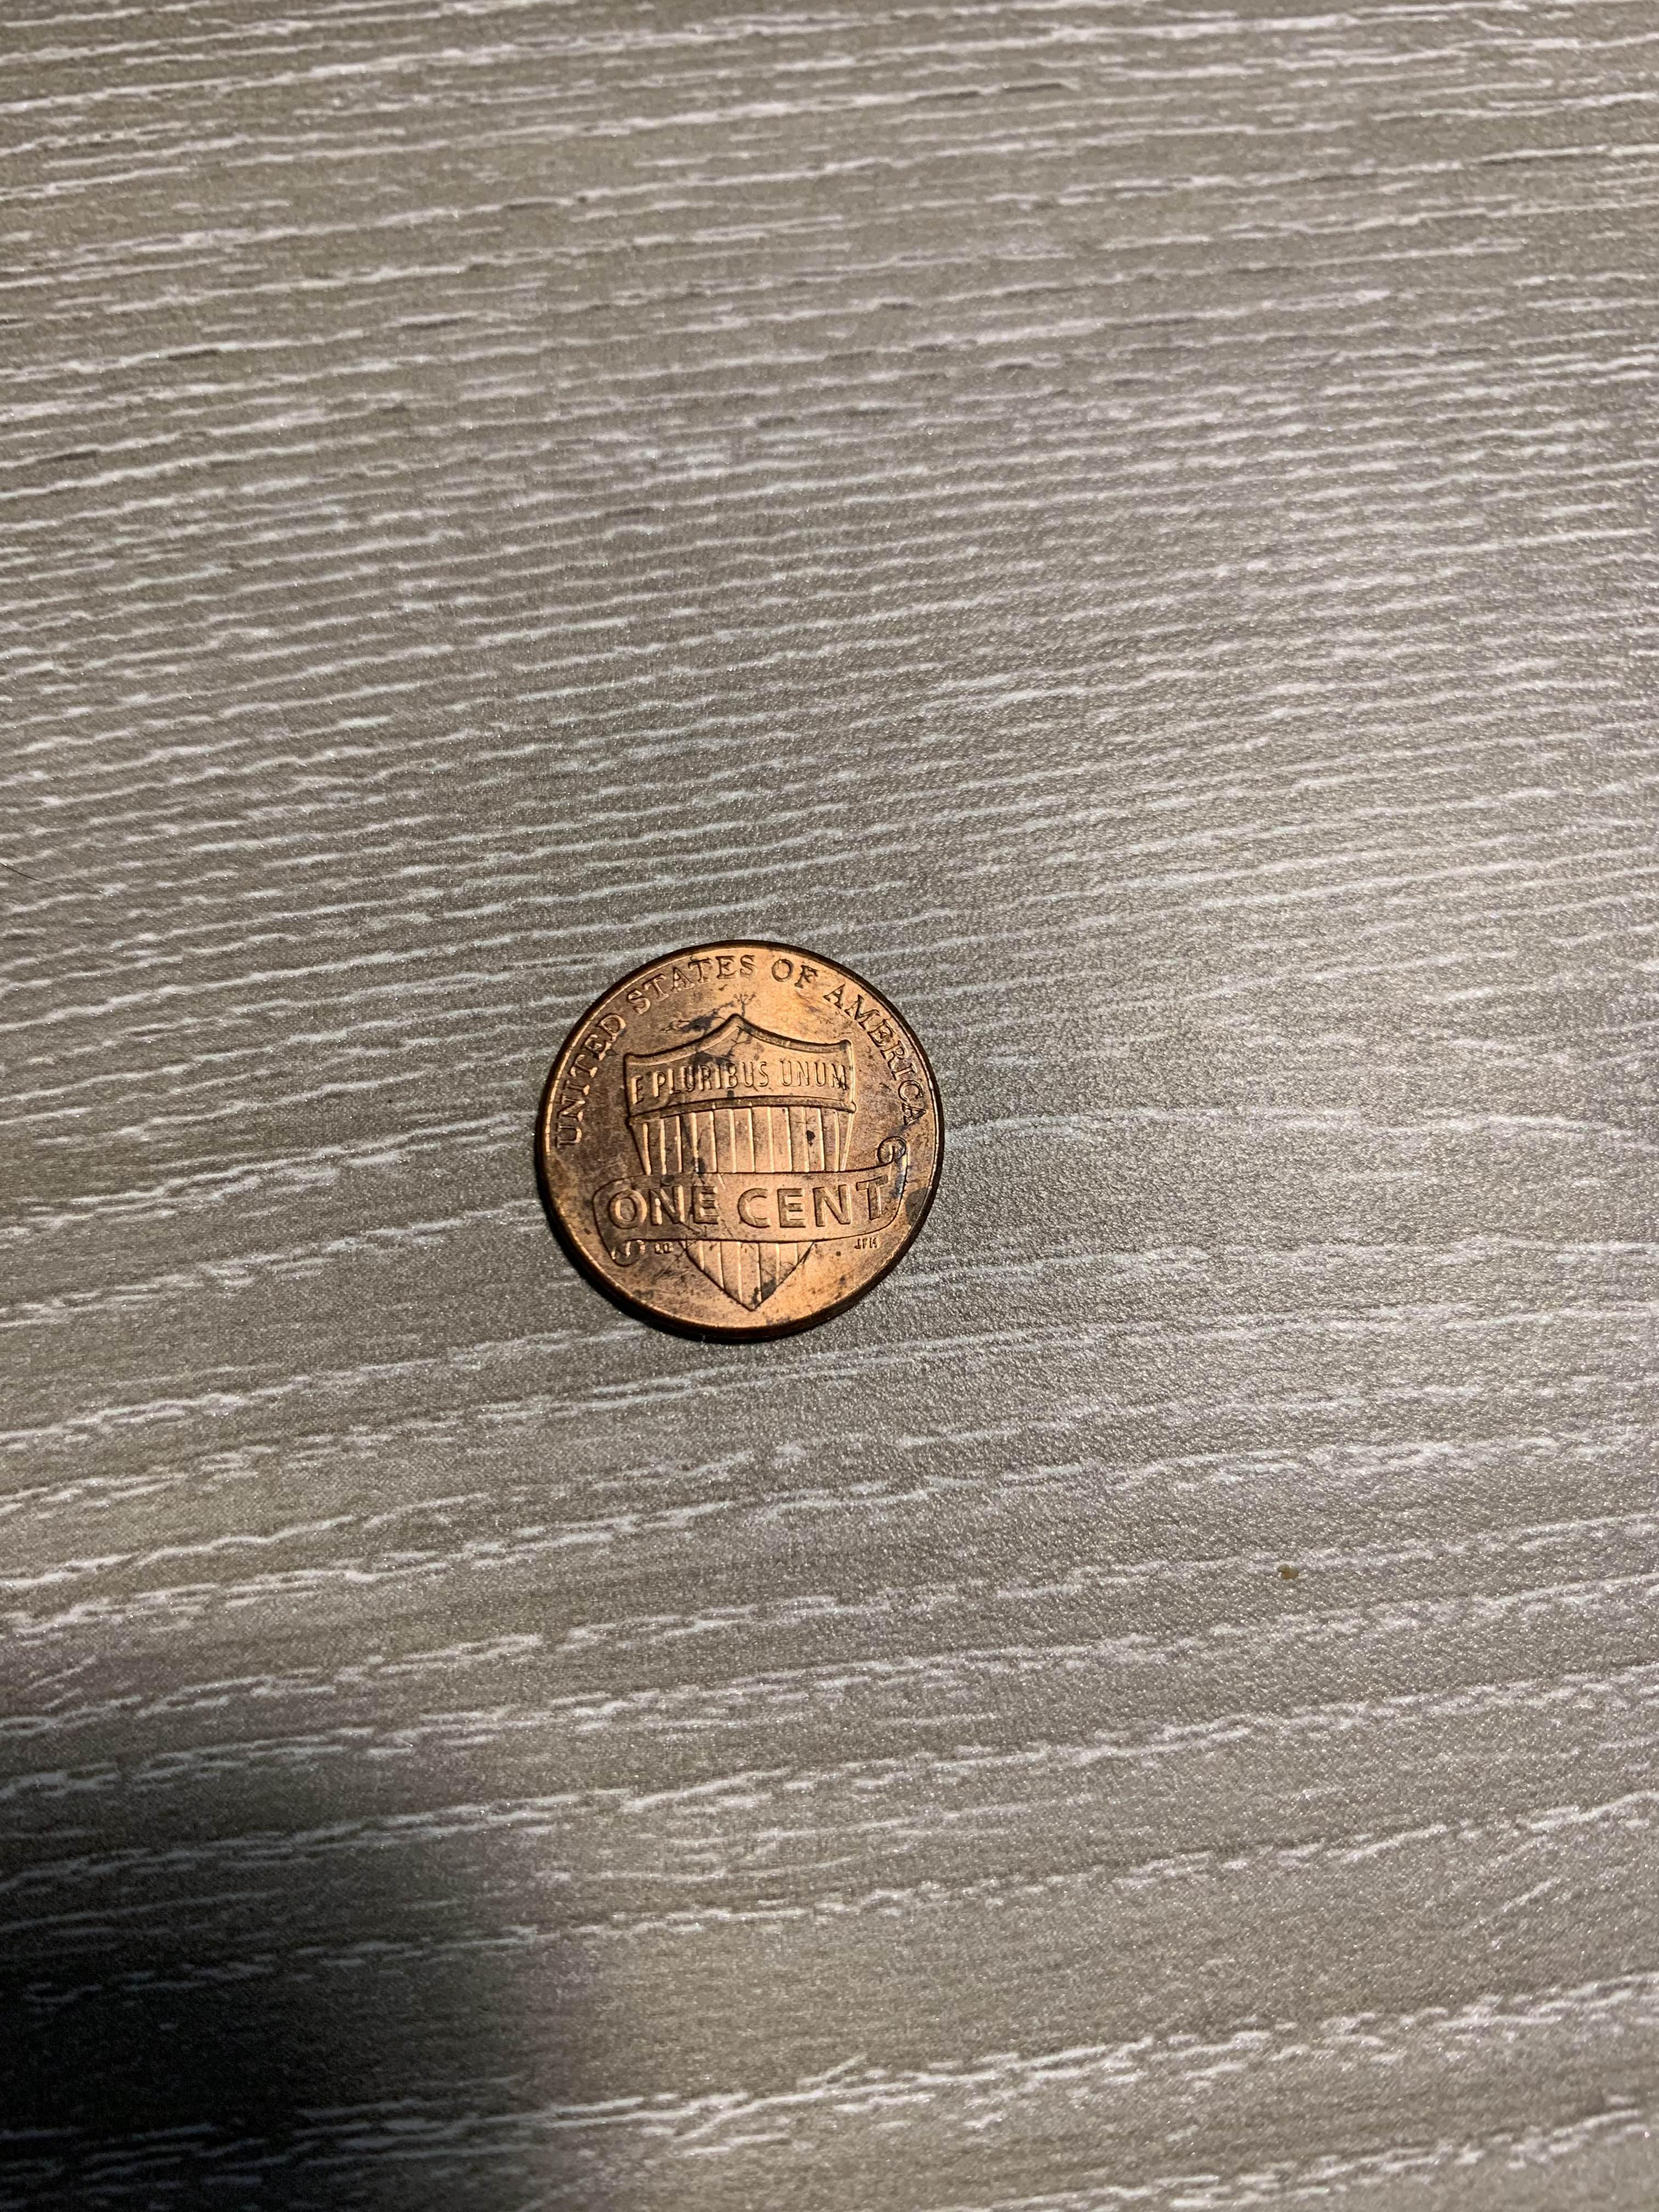Penny: (521, 932, 958, 1350)
